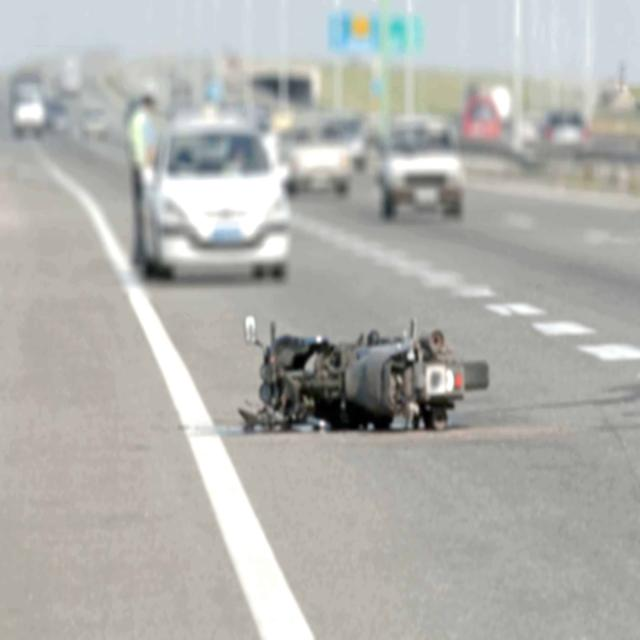accident: (240, 317, 489, 431)
